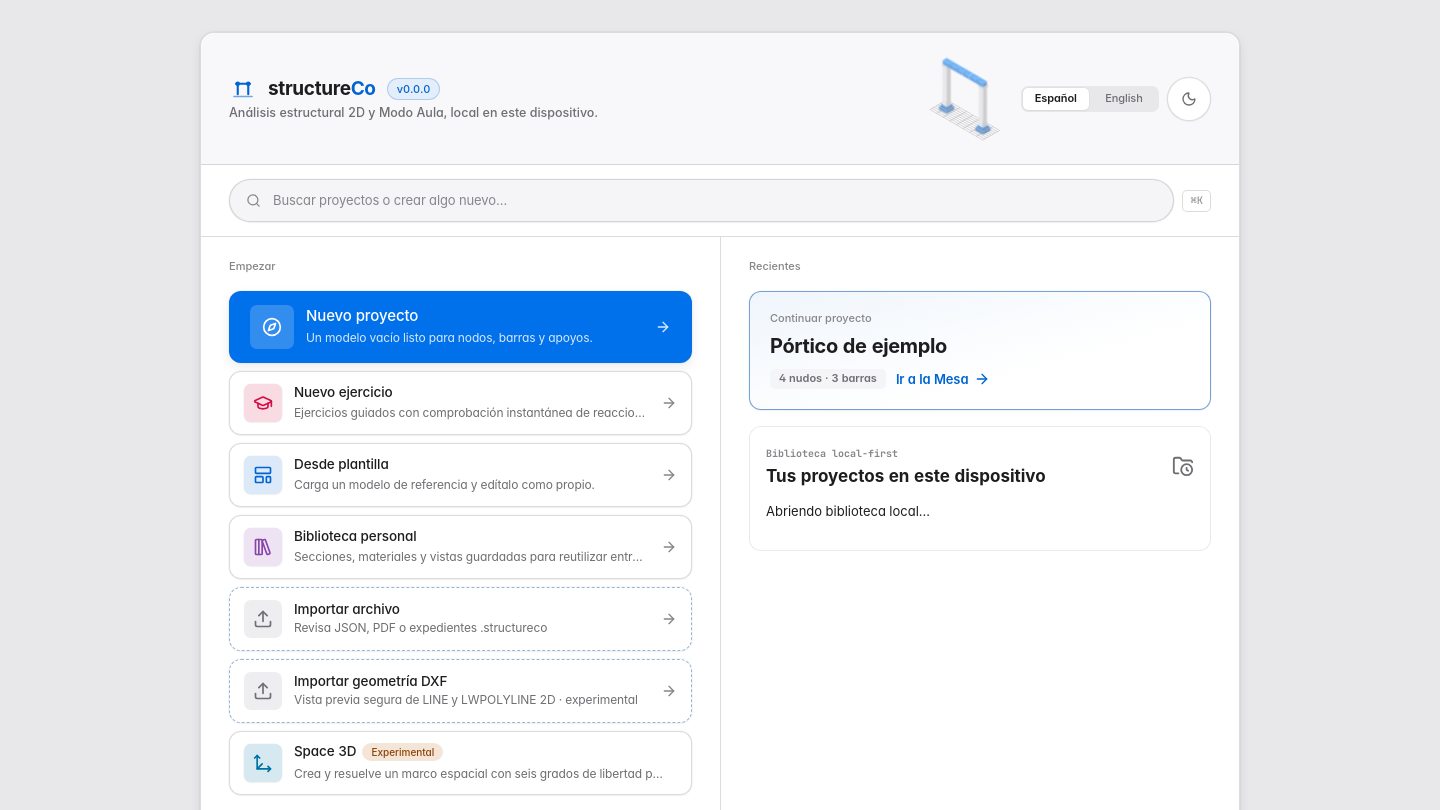
Test: un destino, un lanzador › no deja ningun destino sin lanzador
What coordinates should you click on to do the following:
click the button "Continuar proyecto"
I would click on:
 (821, 318)
Its box is left=749, top=291, right=1211, bottom=410.
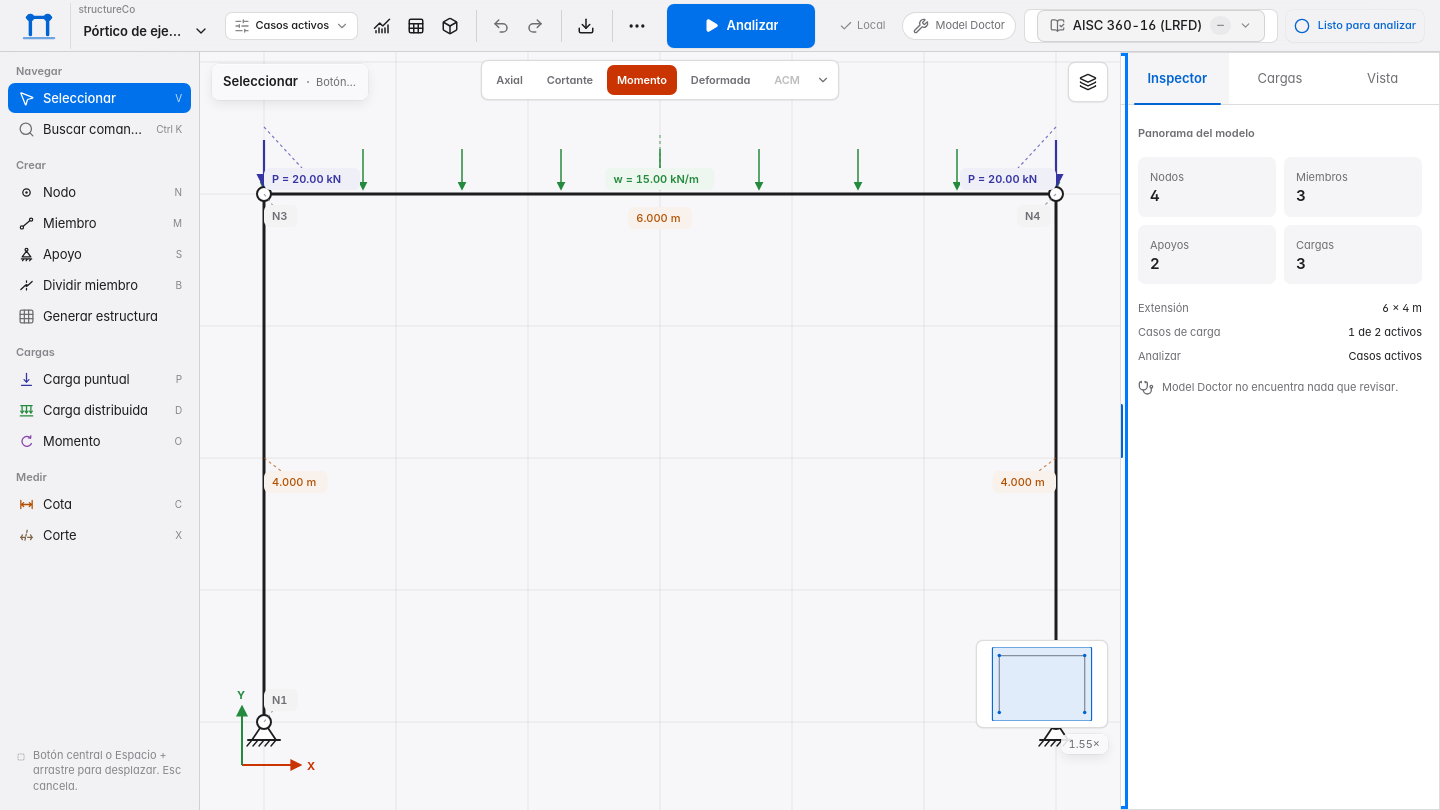
Result: the button "Analizar" is shown at left=667, top=4, right=815, bottom=48
